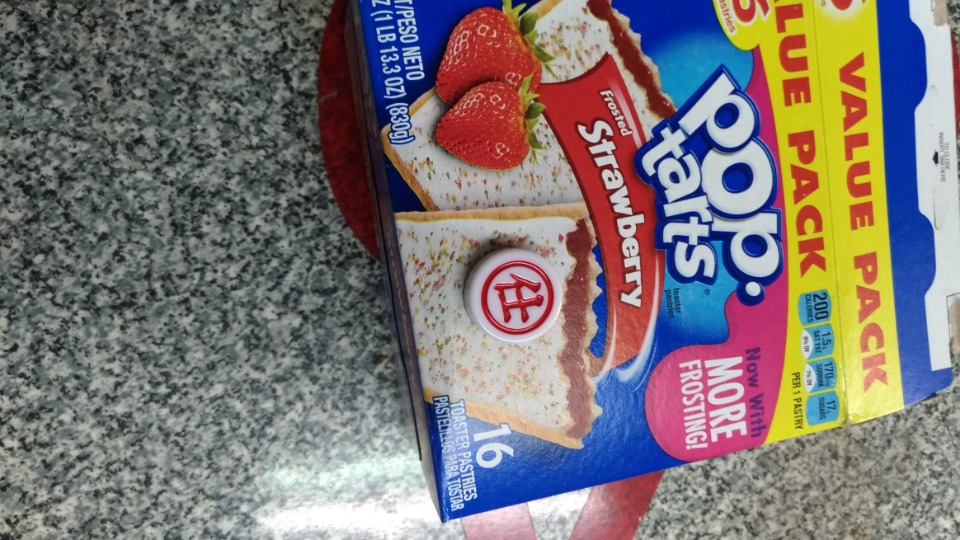r-advisor: (462, 244, 578, 355)
